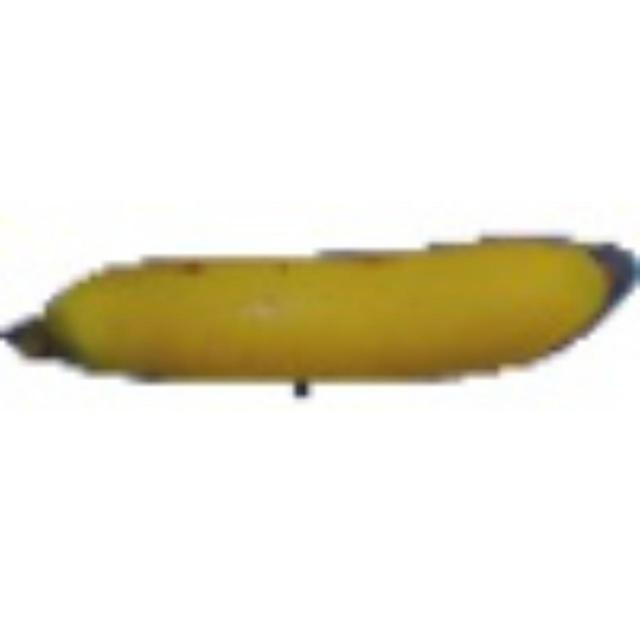banana: (8, 236, 640, 404)
